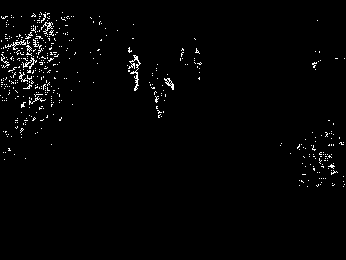person: (144, 60, 178, 120)
